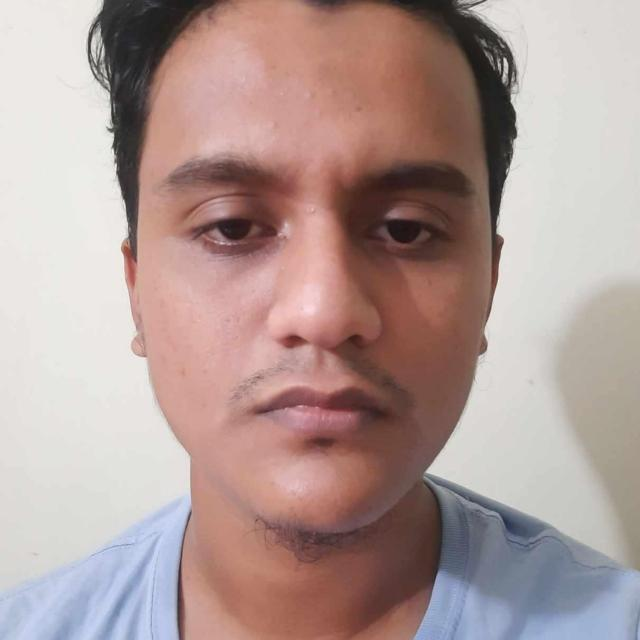Natural: (15, 60, 541, 575)
